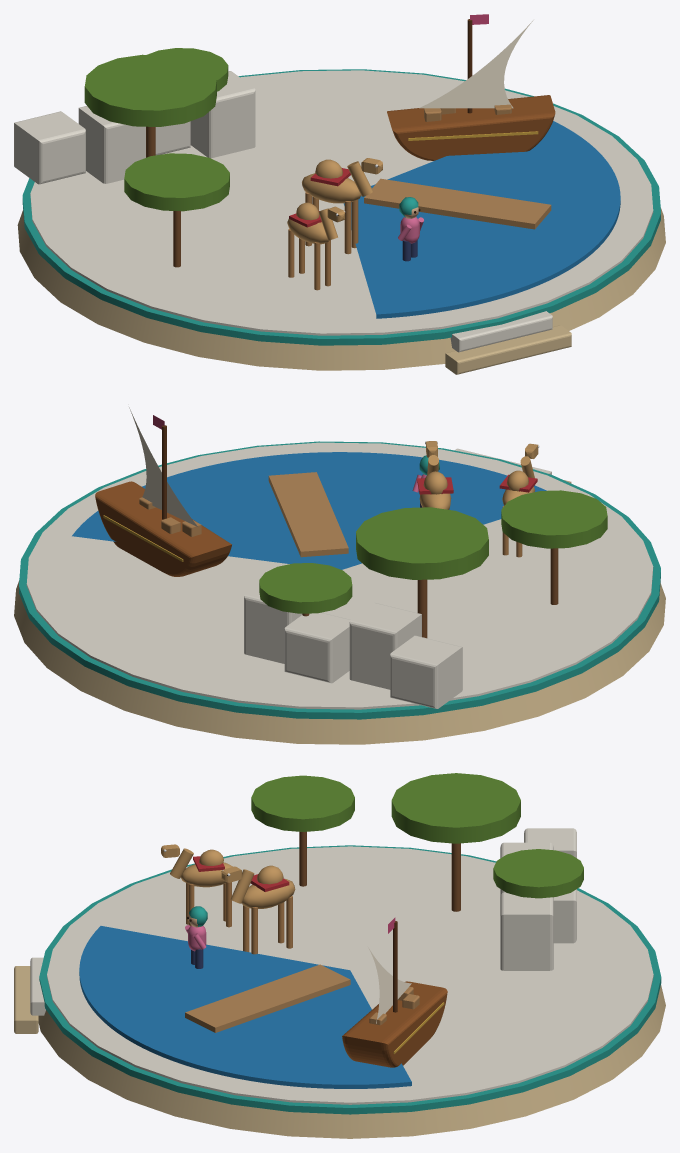
Rendered from hornPort.glb.
3 views of the same model, one above another, from view 1: azimuth 30°, elevation 25°; view 2: azimuth 150°, elevation 25°; view 3: azimuth 270°, elevation 25° (orthographic). The views are drawn at different scales.
Visible parts, largest first — view 1: part_000, part_002, part_003; view 2: part_000, part_002, part_003; view 3: part_000, part_002, part_003.
Boxes of the visible parts, <box> form: part_000: <box>14,48,665,374</box>; part_002: <box>387,19,555,160</box>; part_003: <box>419,20,533,108</box>; part_000: <box>14,441,665,744</box>; part_002: <box>95,425,231,576</box>; part_003: <box>129,407,197,526</box>; part_000: <box>14,773,665,1138</box>; part_002: <box>342,921,447,1067</box>; part_003: <box>368,947,411,1023</box>.
Bounding box in the file's own units: 10.72 × 3.02 × 11.07.
